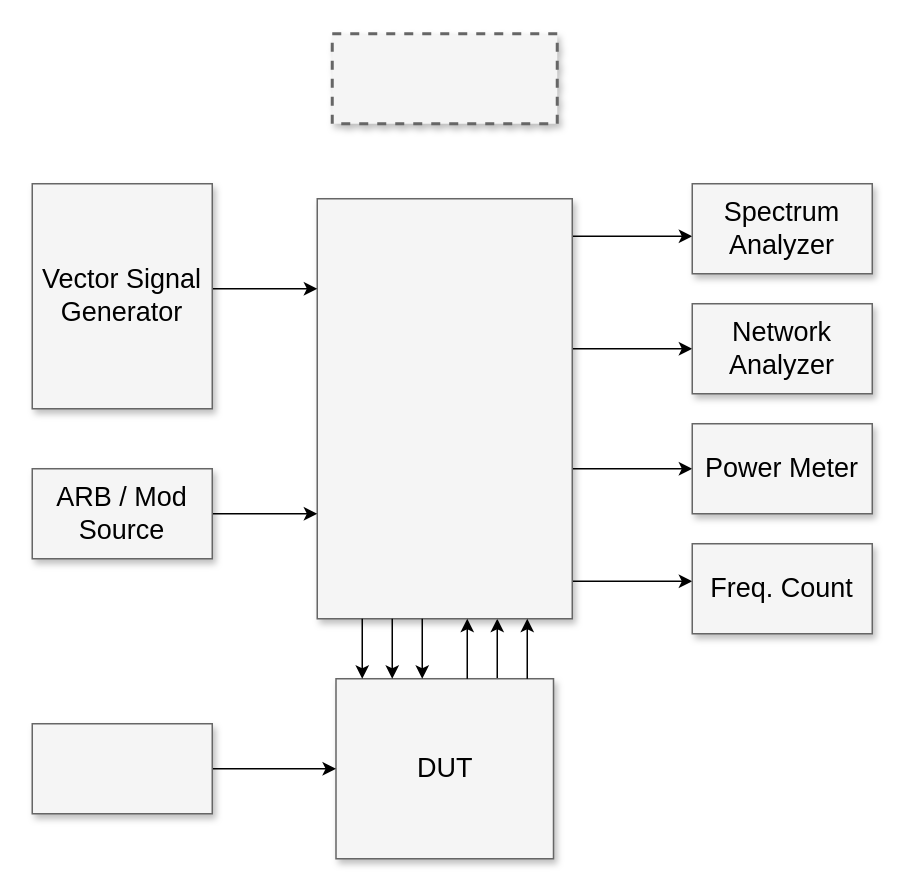
This 908x896 diagram has some shape labels left out. Here are the shapes that lost their labels. From the top down, the centre of each, then its label:
the point at 445,80: 소프트웨어 제어
the point at 445,410: 사용자 정의 스위치 매트릭스 (스위치, 커플러, 믹서, 앰프, 감쇠기, 분배기)
the point at 123,770: DC Power Supplies
